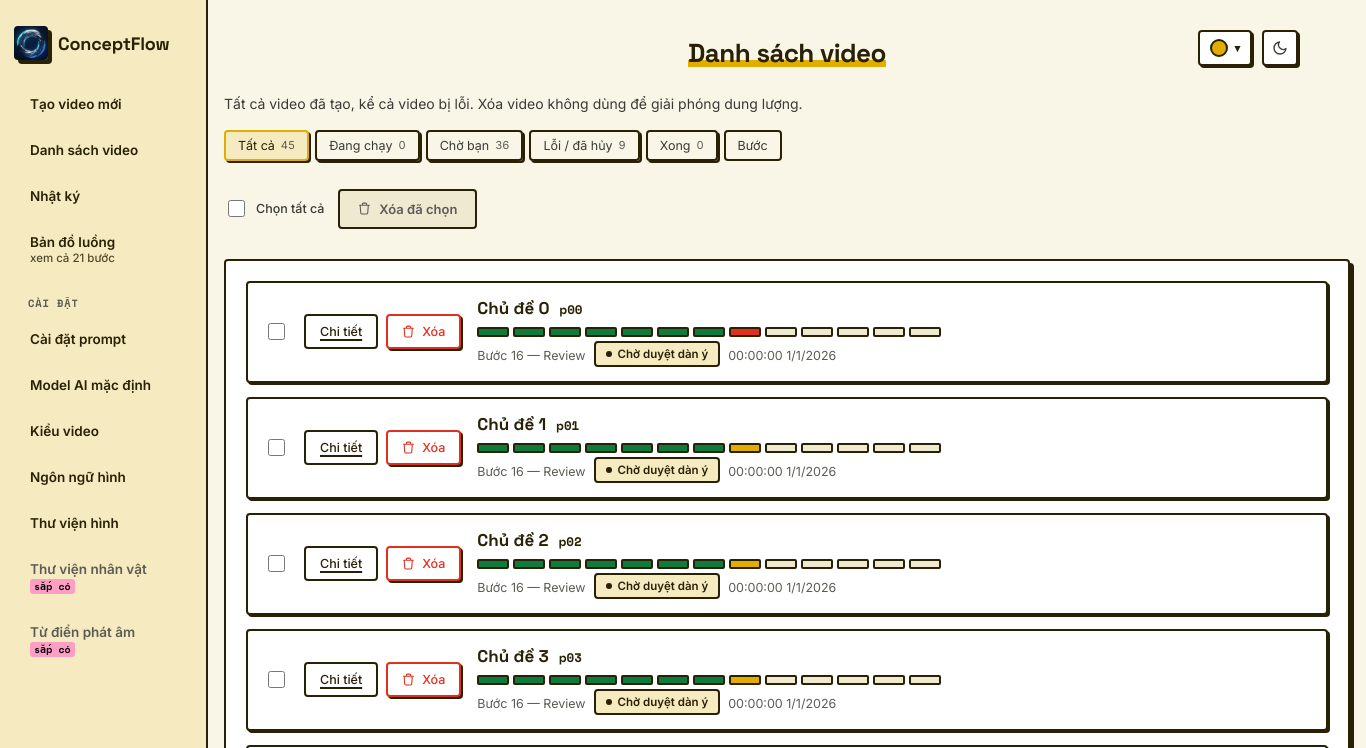
it: VideoListPage › phân trang › selects all on the page on show only, keeping picks from other pages
The image size is (1366, 748).
Expected: the element with test id "video-row-p00" is shown, [246, 281, 1328, 383]
Click the checkbox named "Chọn video p00" at (276,332), box [268, 323, 285, 340]
(page scrolled)
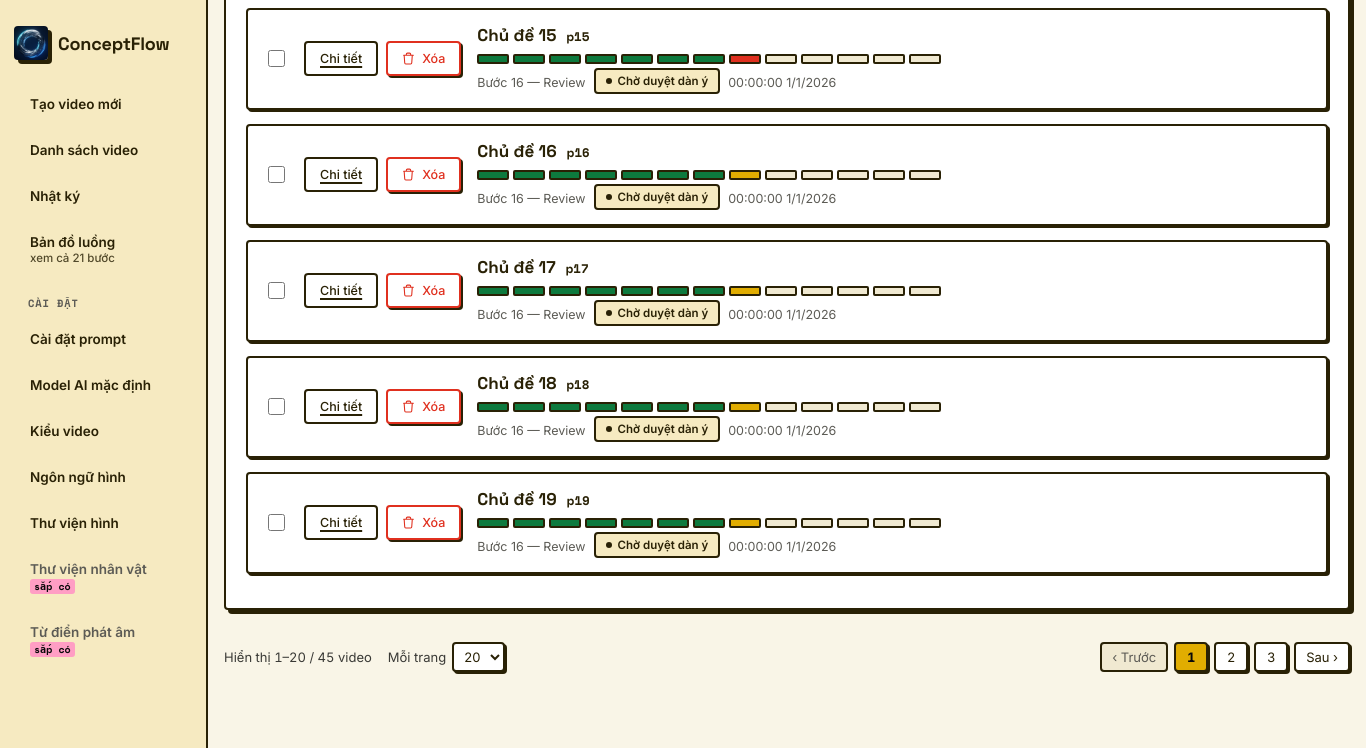
Click the button with test id "pagination-next" at (1322,657), box [1294, 642, 1350, 672]
(page scrolled)
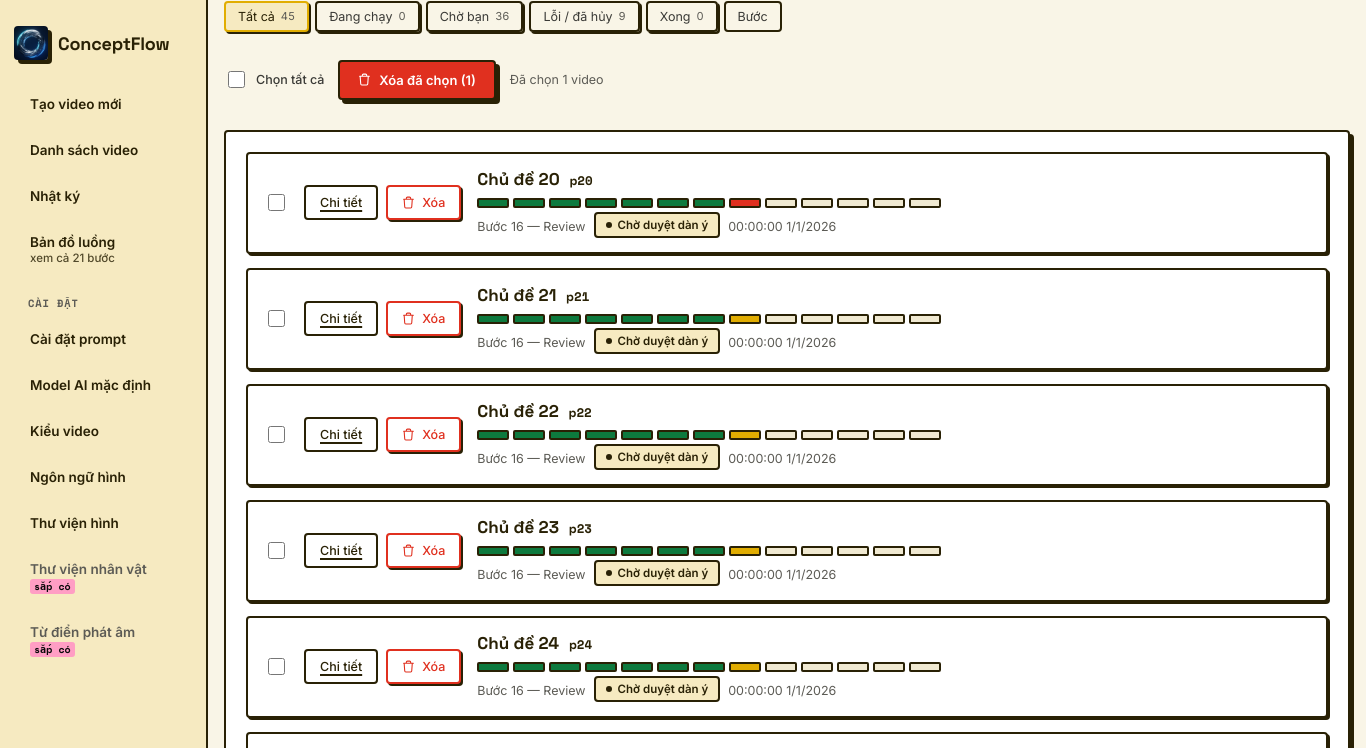
Expected: the element with test id "video-row-p20" is shown, [246, 152, 1328, 254]
Click the checkbox labelled "Chọn tất cả" at (236,80), box [228, 71, 245, 88]
(page scrolled)
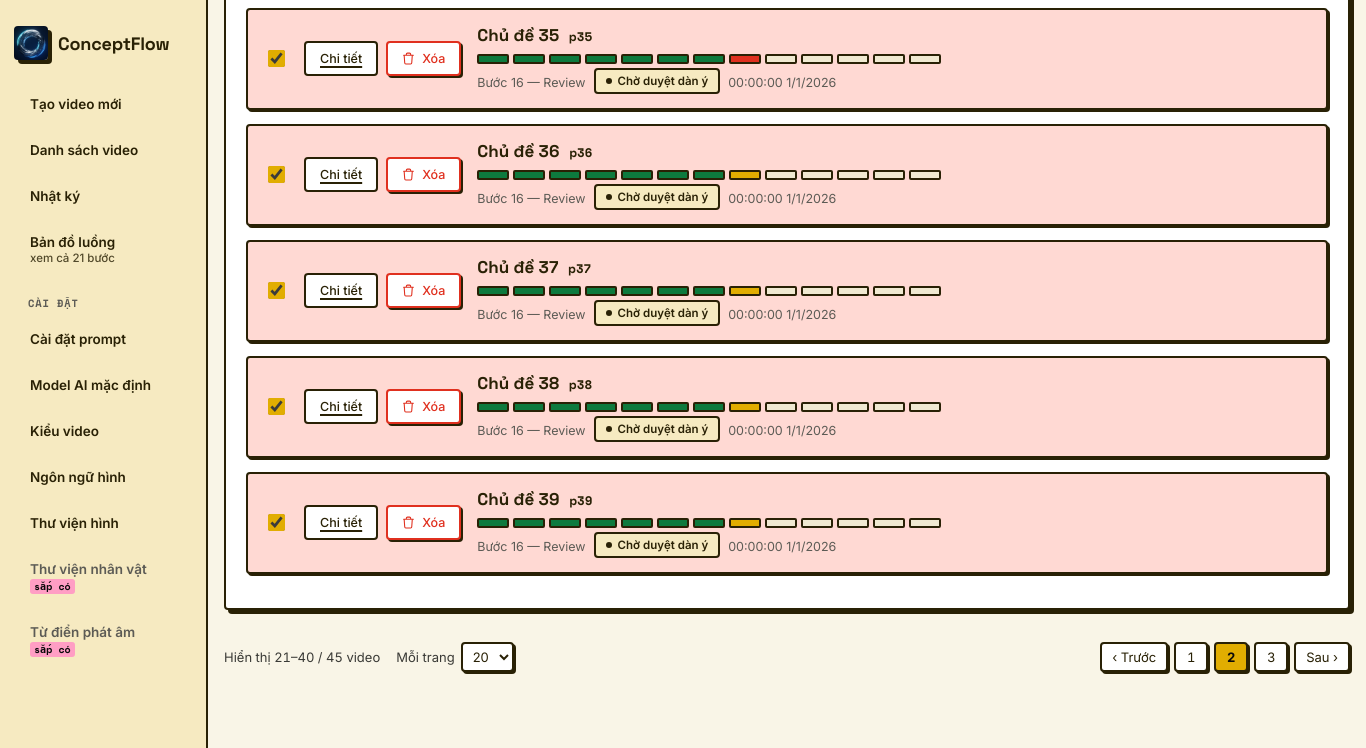
Click the button with test id "pagination-prev" at (1134,657), box [1100, 642, 1168, 672]
(page scrolled)
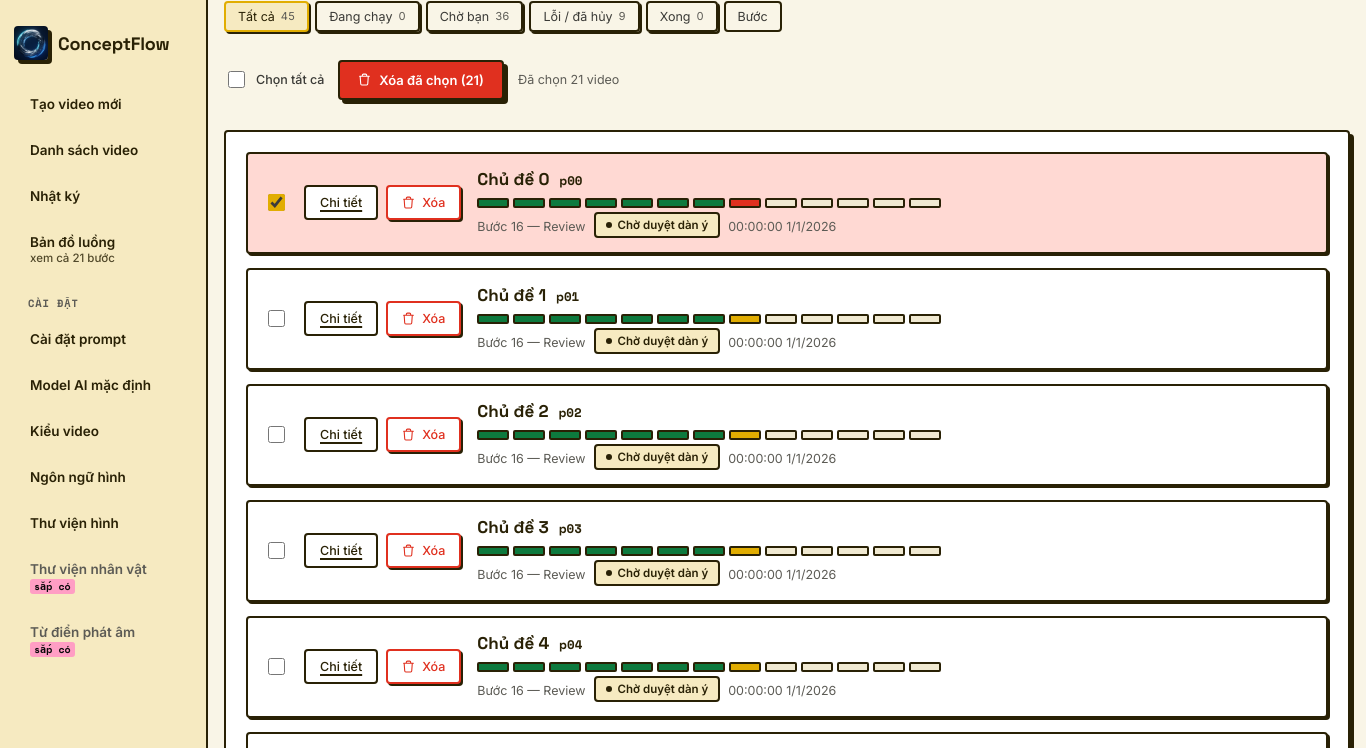
Expected: the checkbox labelled "Chọn tất cả" is not checked, [228, 71, 245, 88]
Expected: the checkbox named "Chọn video p00" is checked, [268, 194, 285, 211]
Expected: the element with test id "video-row-p00" is shown, [246, 152, 1328, 254]
